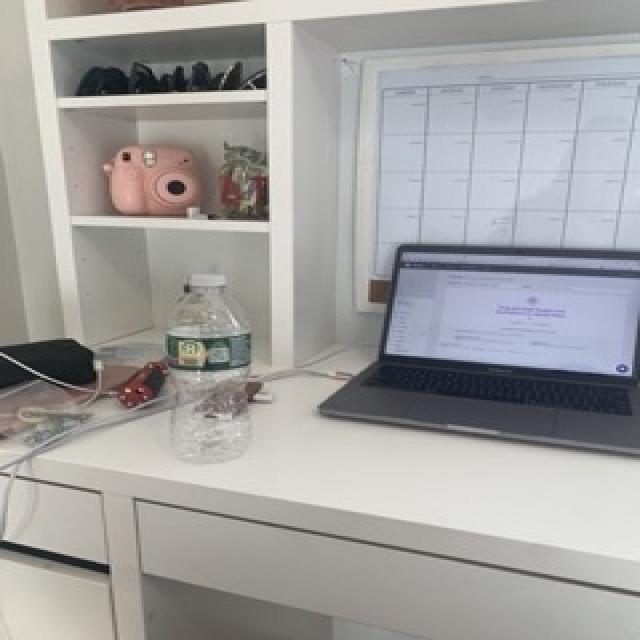water_bottle: (158, 270, 260, 465)
